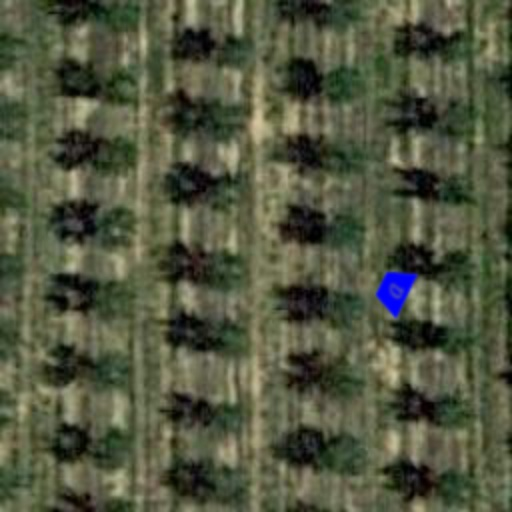trapezoid: (360, 256, 428, 324)
